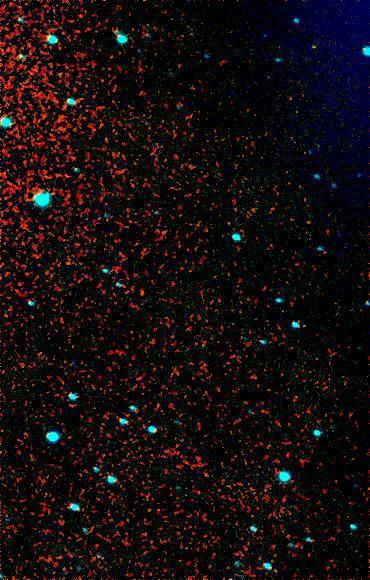star: (297, 31, 327, 61)
